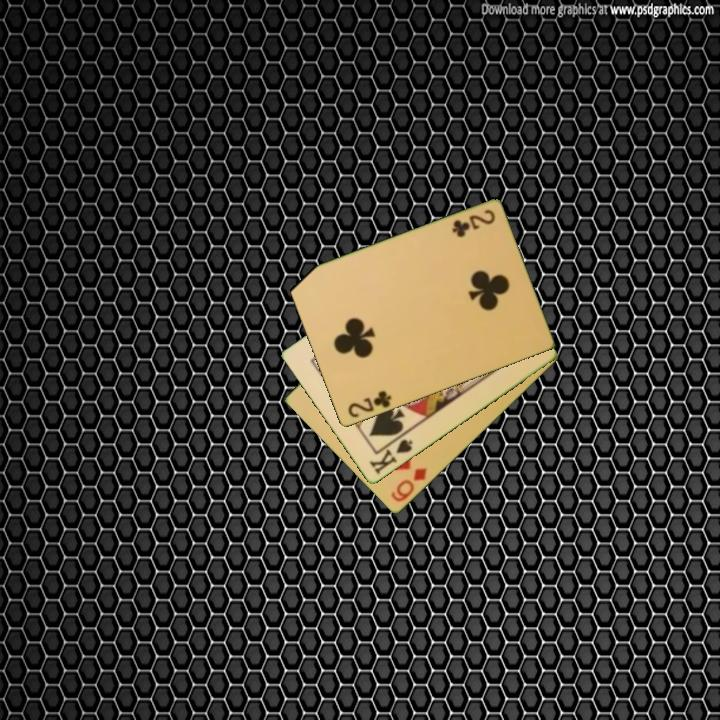2c: (344, 387, 394, 421), (448, 206, 498, 240)
6d: (387, 464, 430, 505)
Ks: (366, 431, 416, 478)
